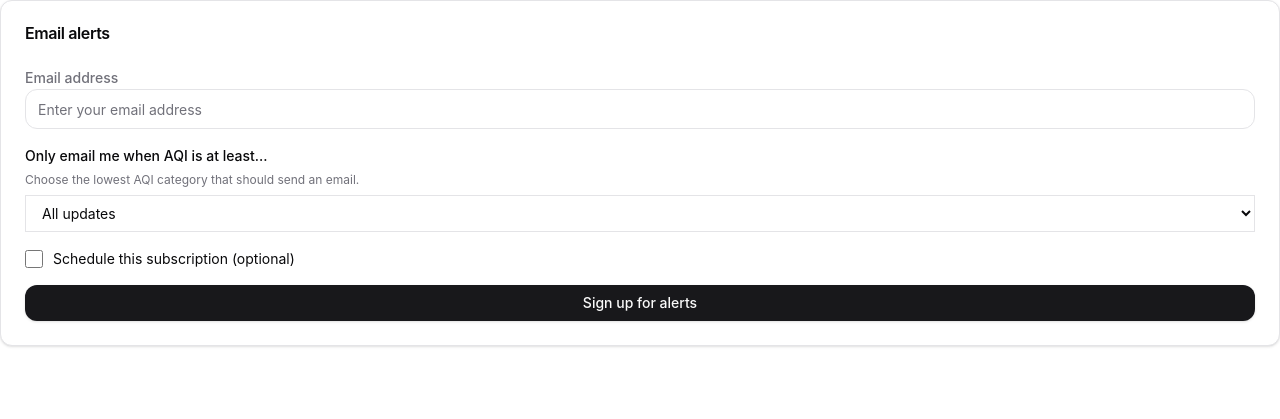
Test: SubscriptionForm › shows error if API returns error
In the field with placeholder "Enter your email address": (640, 109) [25,89,1255,129], type "test@example.com"
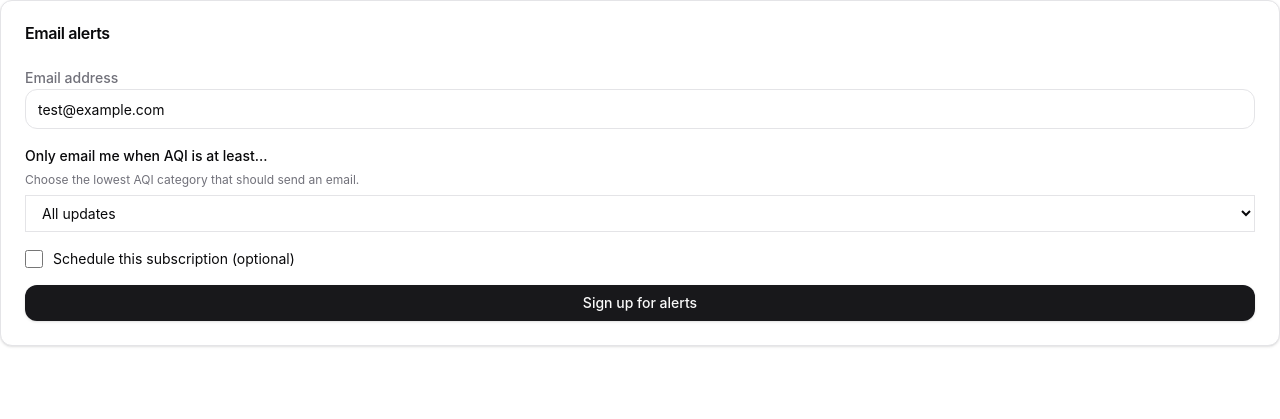
Click the button: (640, 303) [25,285,1255,321]
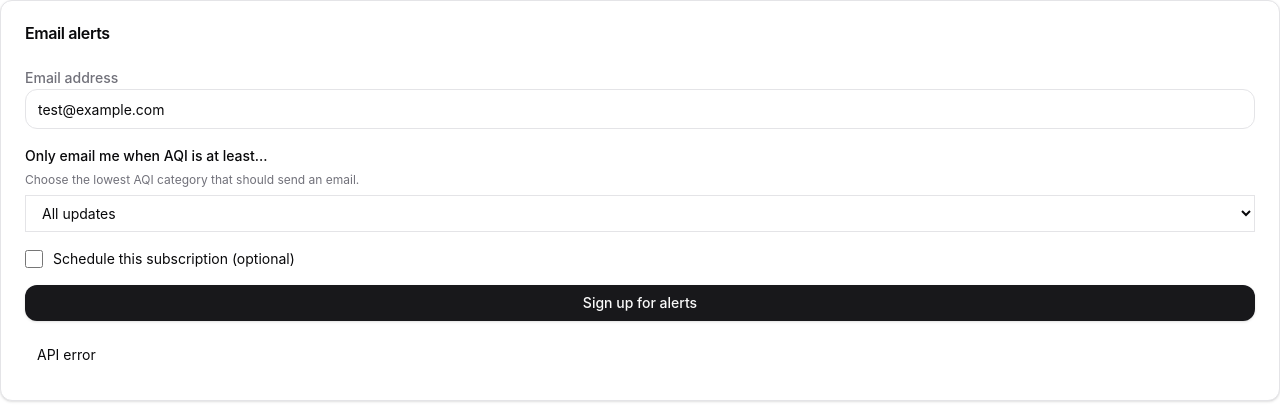
Expected: the text "API error" is shown, [37,346,96,363]
